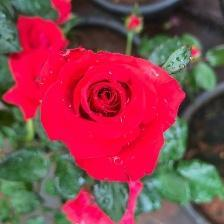rose: (39, 47, 187, 185)
